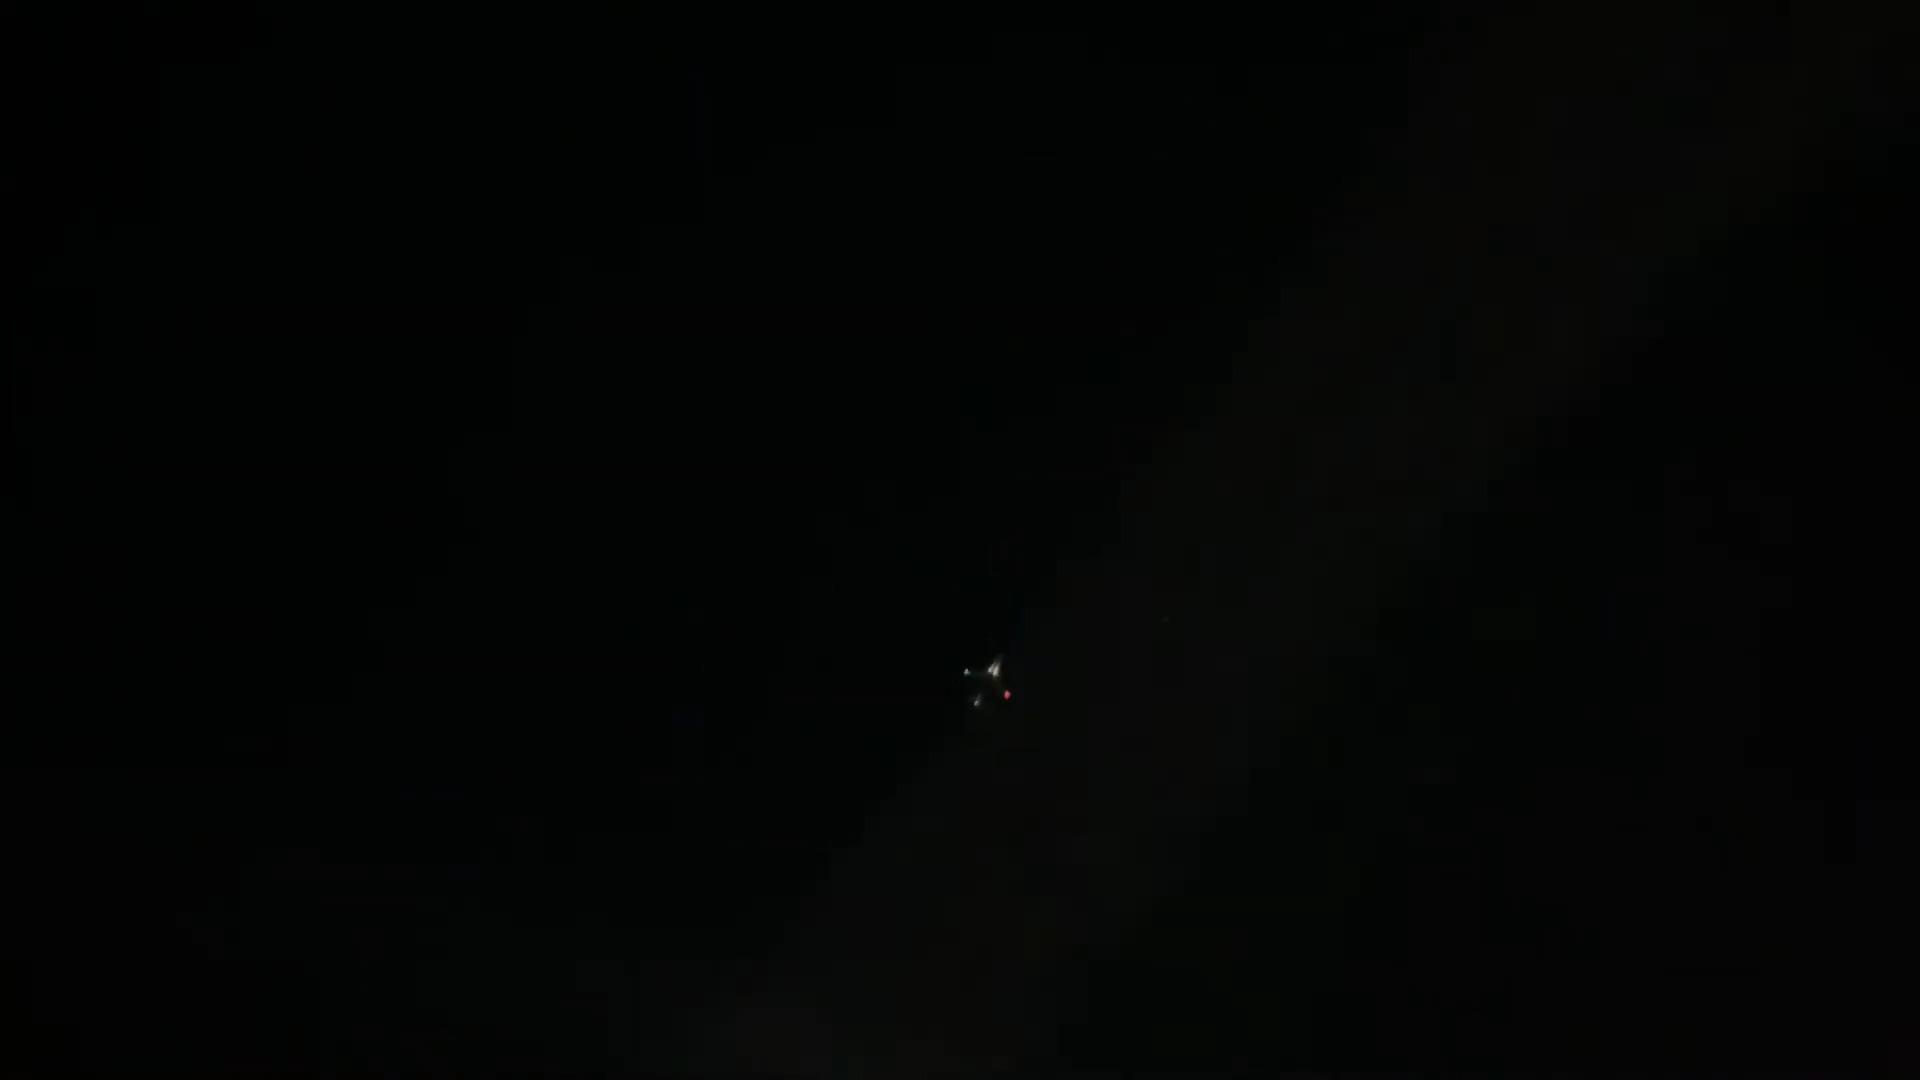Plane: (913, 638, 1073, 732)
